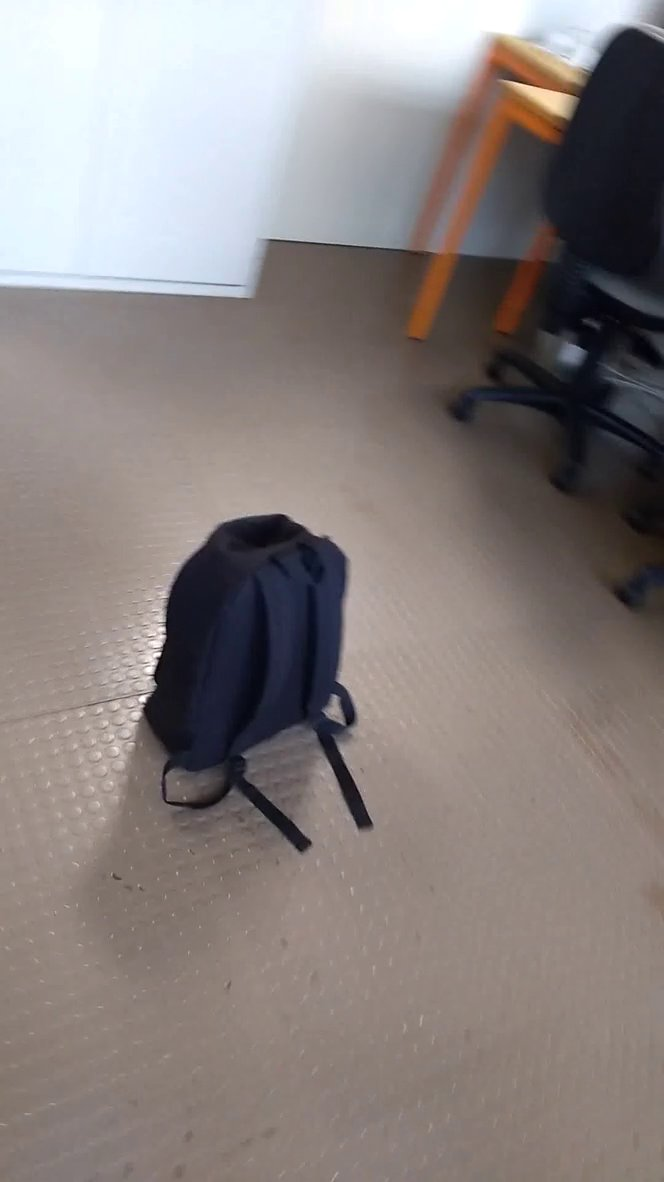bag: (131, 501, 407, 861)
